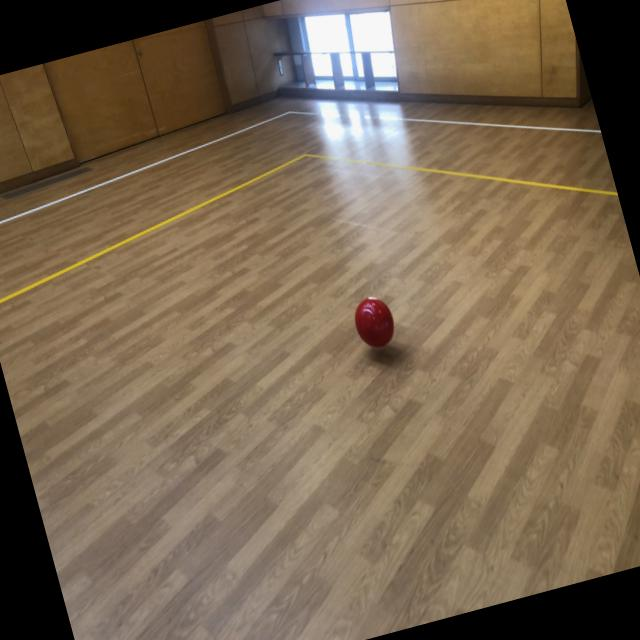red_ball: (349, 294, 400, 352)
